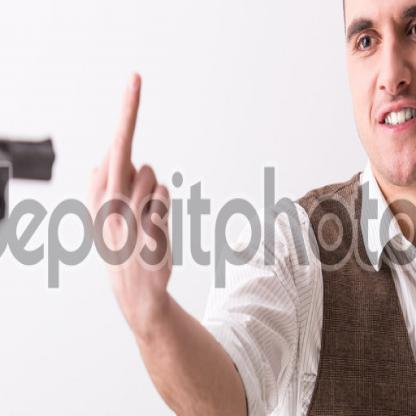gun: (0, 117, 65, 354)
